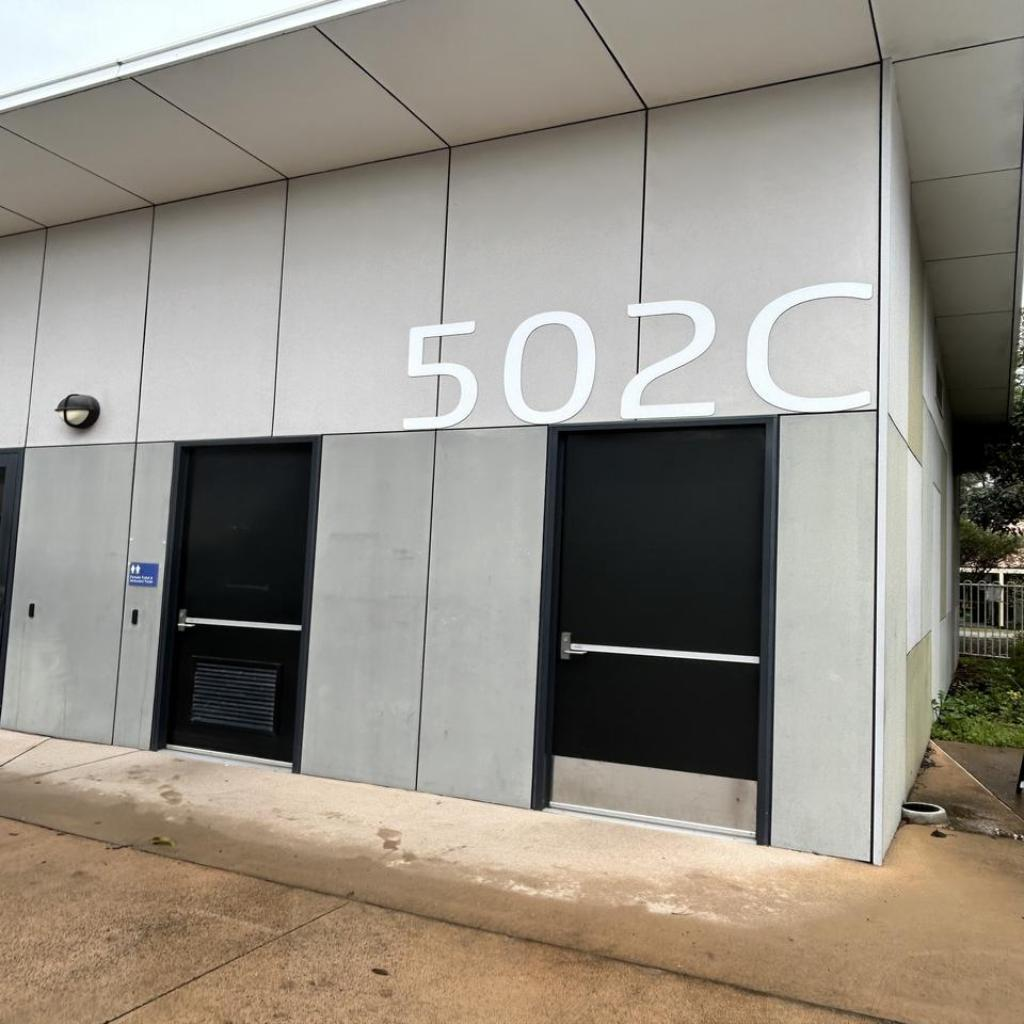BuildingCodes: (396, 277, 876, 435)
